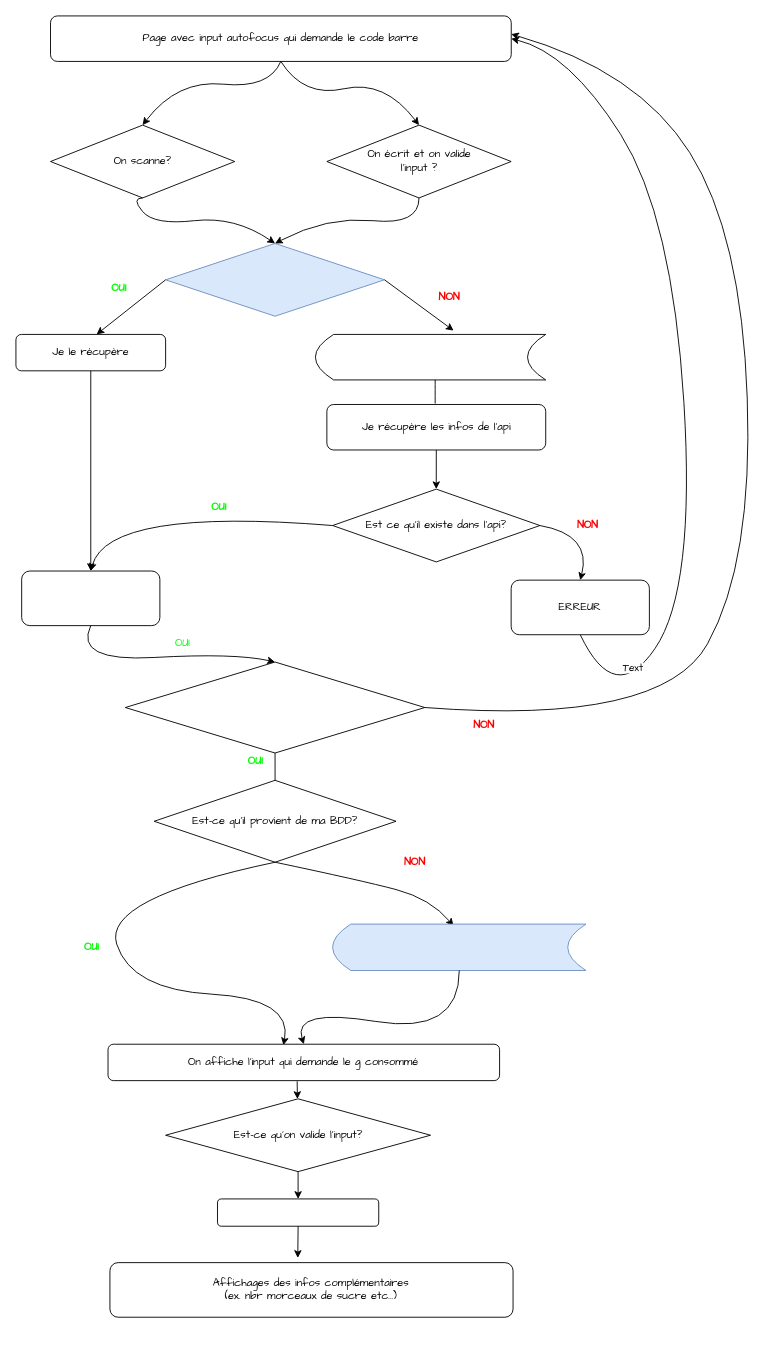
Image size: 769x1360. Some labels were removed from this diagram. Each missing label, with the centre of its shape:
calcul: the point at 298,1212
Est ce que le produit existe dans ma BDD ?: the point at 274,279
Est-ce bien le produit que je cherchais?: the point at 274,707
INSERT dans ma BDD à partir des données le l'API: the point at 459,947
On l'affiche: the point at 90,598
On va chercher dans l'api: the point at 430,357
